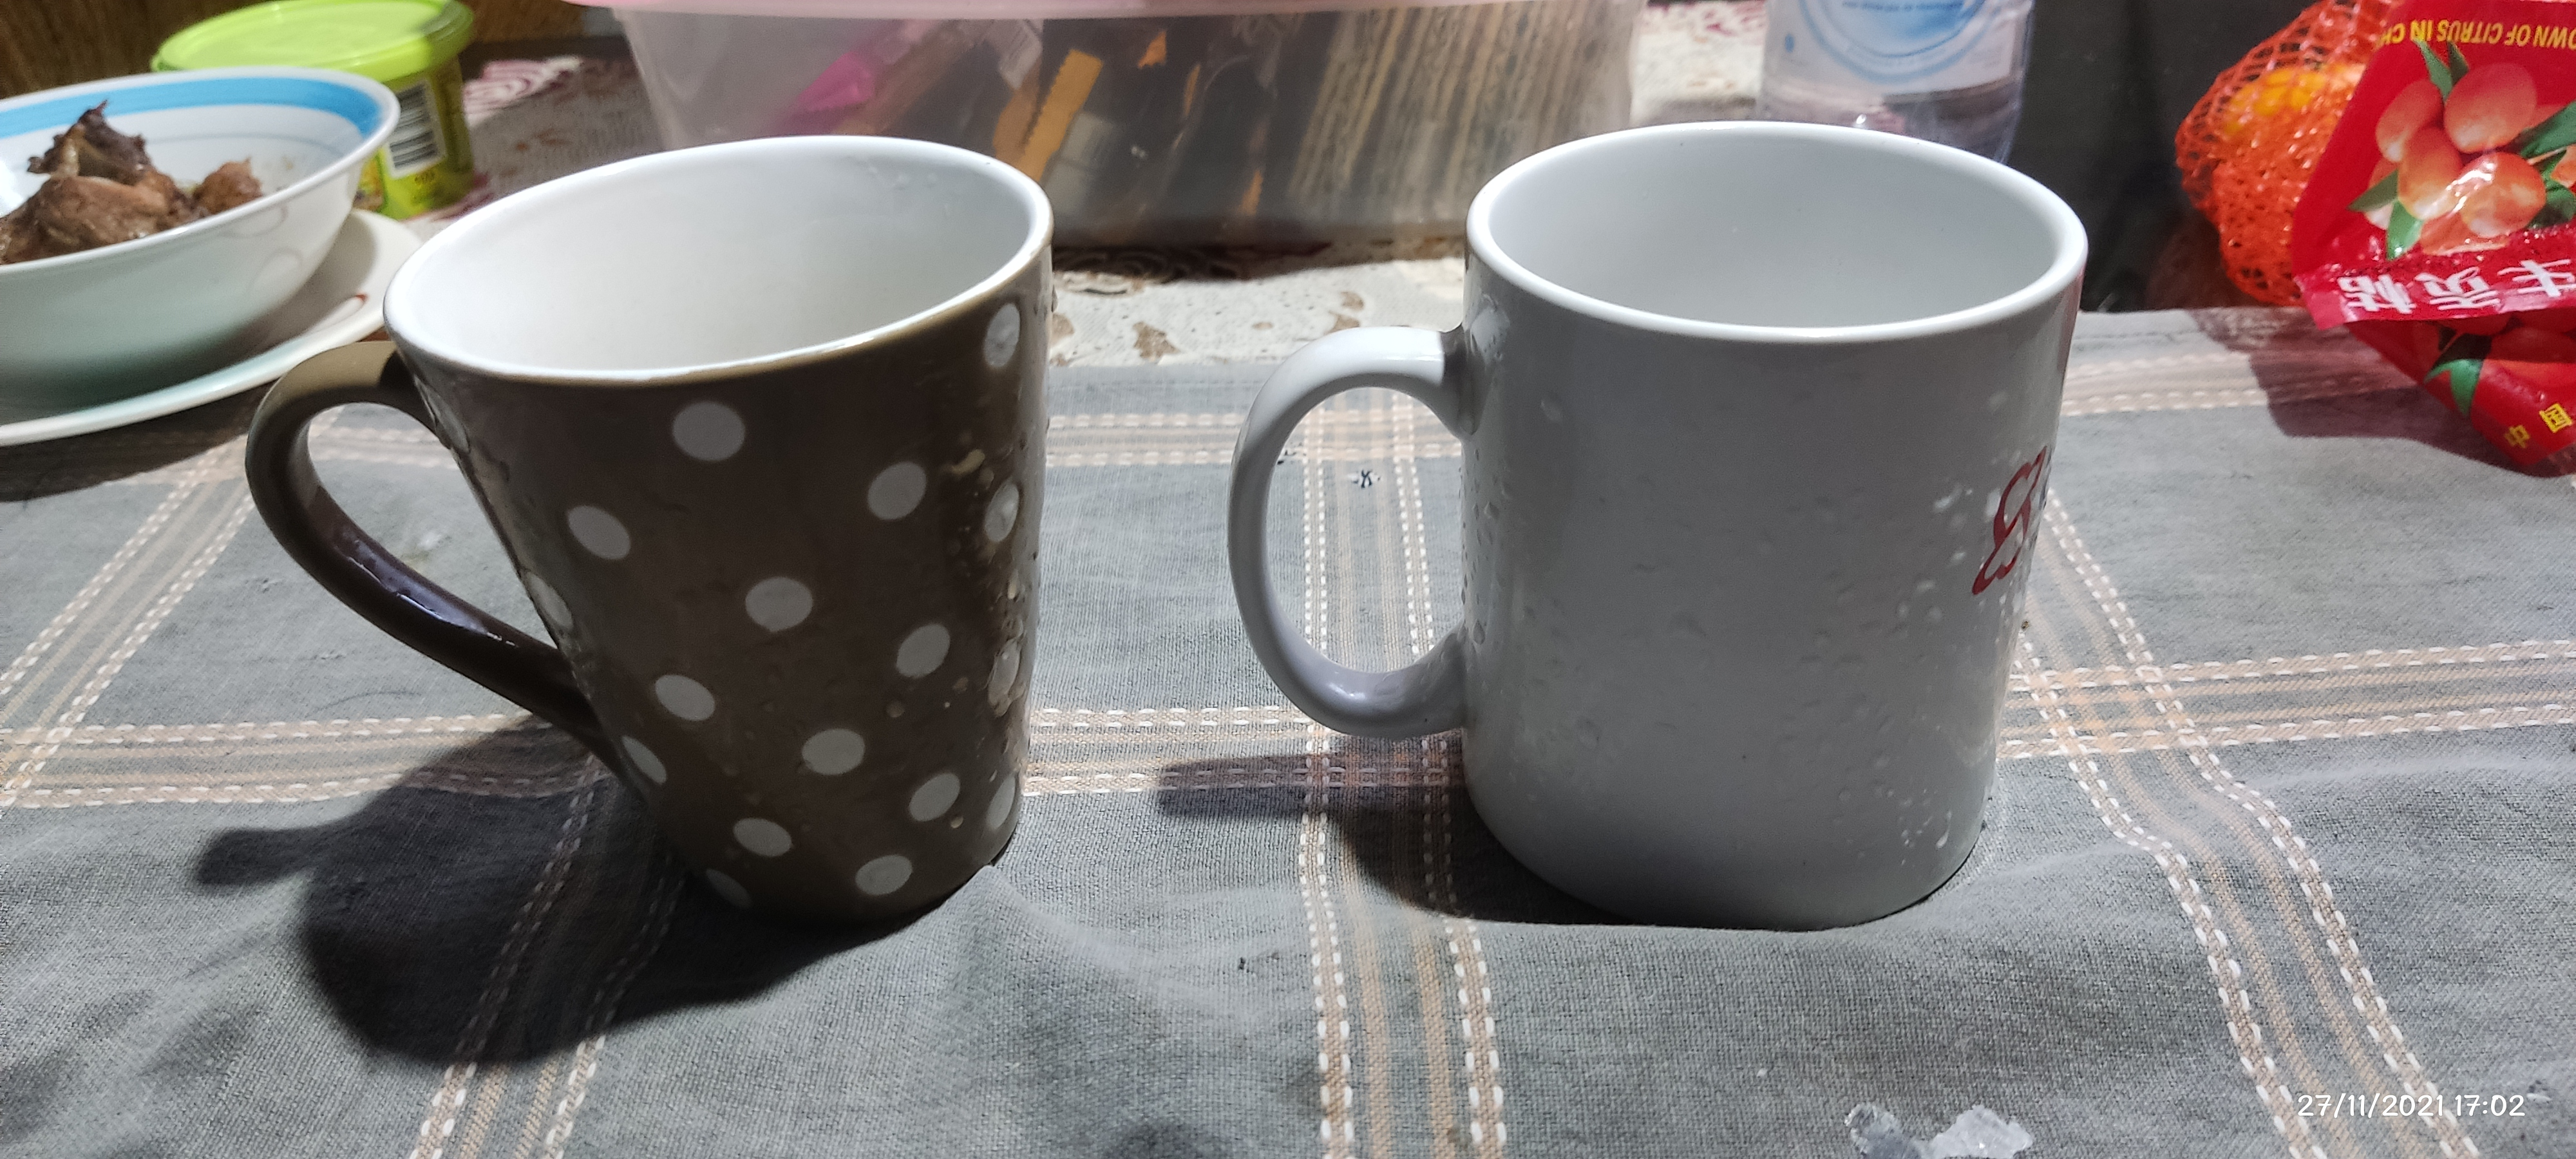mug: (1226, 118, 2091, 928), (248, 135, 1056, 918)
